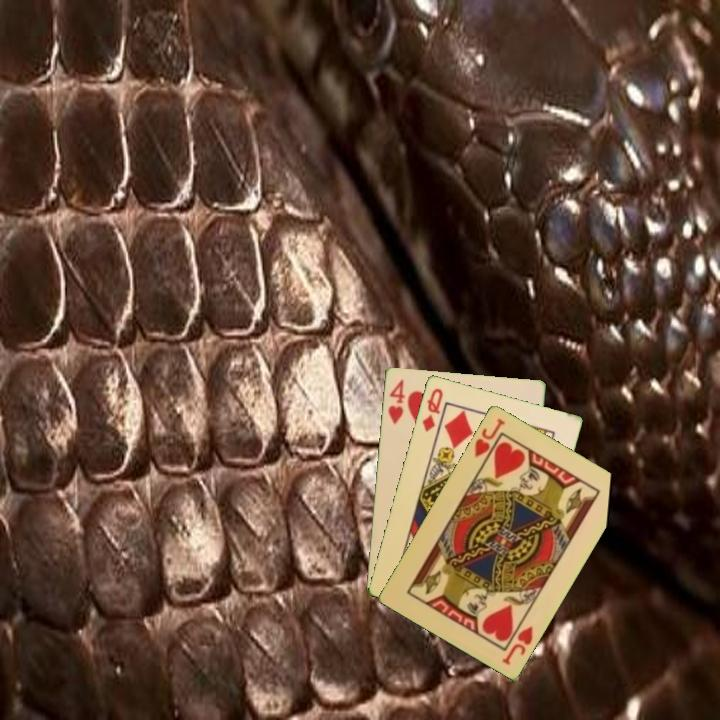4h: (384, 375, 408, 427)
Jh: (470, 414, 508, 460), (498, 622, 536, 667)
Qd: (418, 384, 446, 434)
